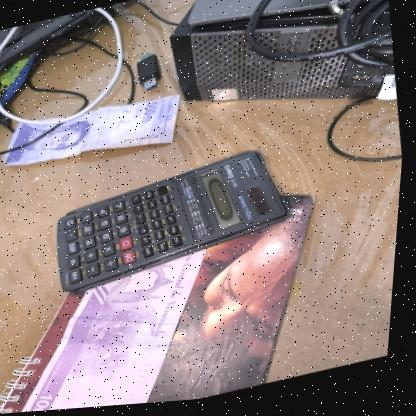one_hundred-back-vef: (0, 249, 233, 415)
